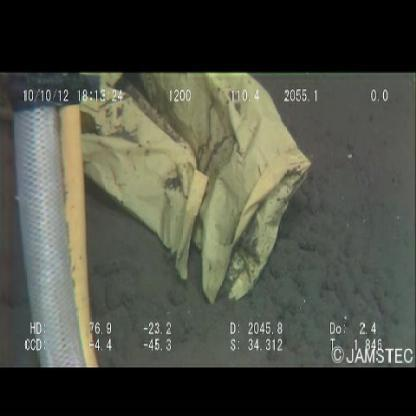Rác: (0, 70, 312, 306)
